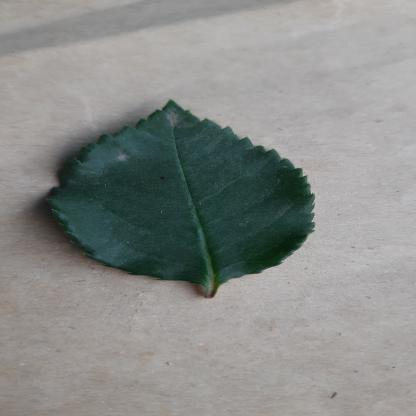normal: (47, 98, 322, 280)
